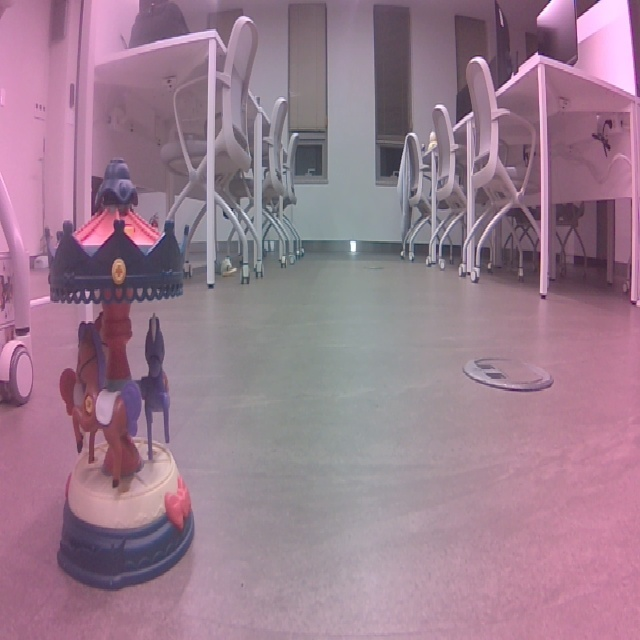목적지: (41, 152, 204, 594)
